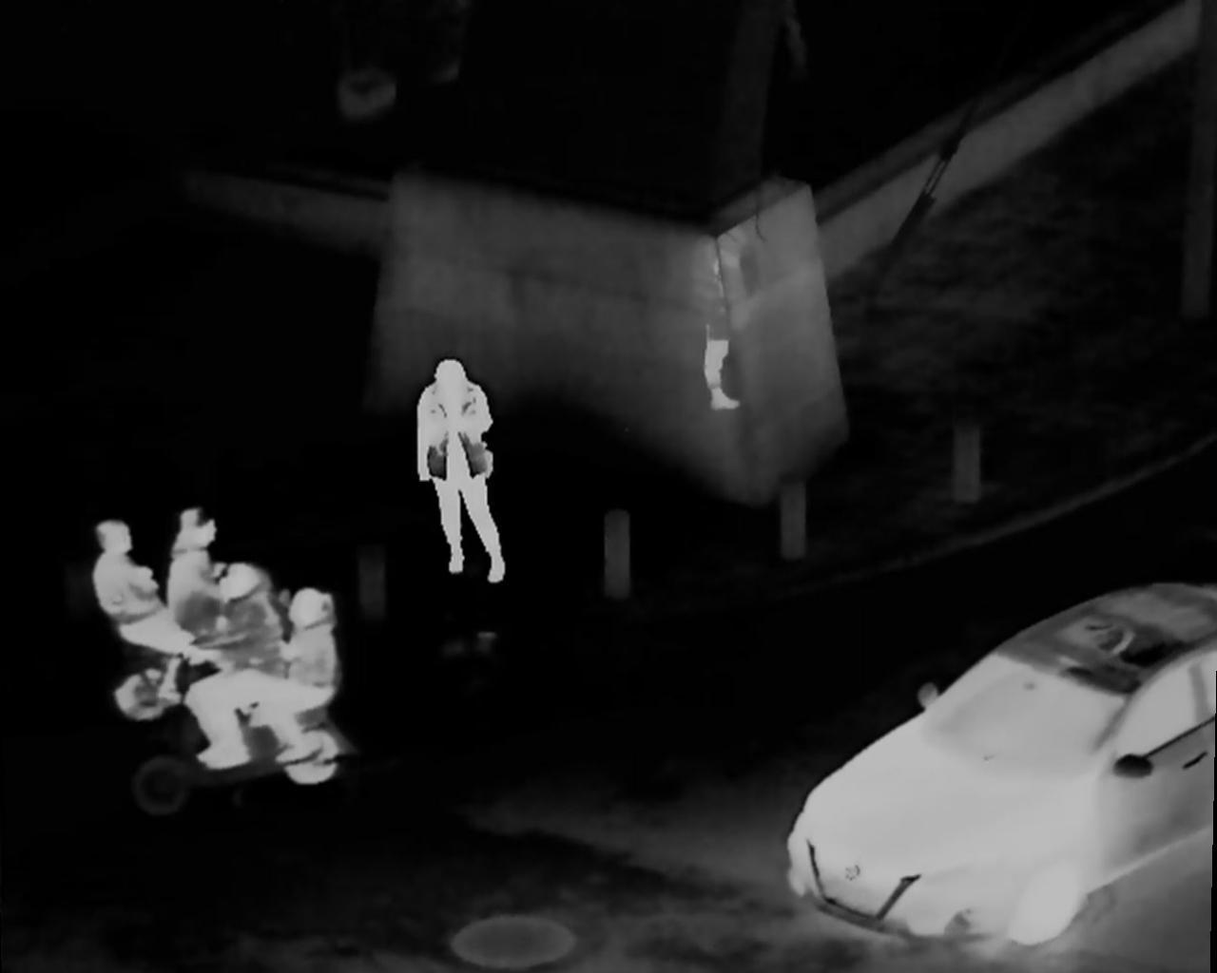person: (410, 354, 513, 579), (182, 563, 279, 769), (91, 520, 213, 680), (271, 587, 338, 776), (158, 506, 223, 640)
